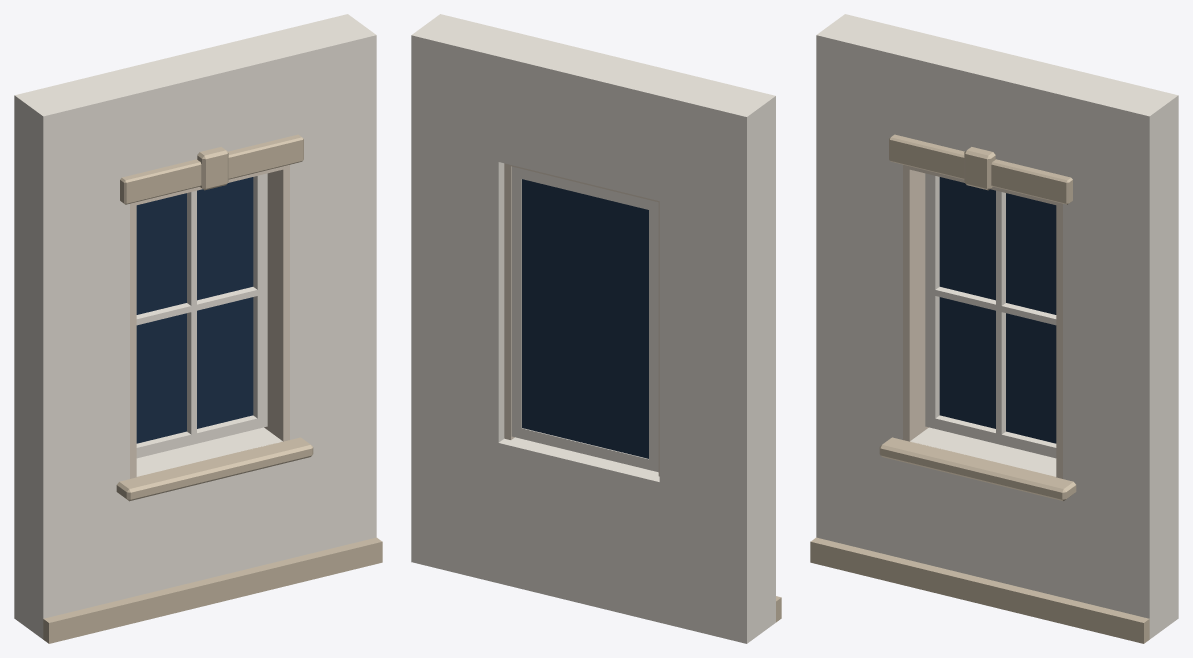
File: window_sash.glb
3 renders of one model, left to right at view 1: azimuth 30°, elevation 25°; view 2: azimuth 150°, elevation 25°; view 3: azimuth 330°, elevation 25°, orthographic.
Visible parts, largest first — view 1: window_sash; view 2: window_sash; view 3: window_sash.
Boxes of the visible parts, x1,y1,x2,y2 form: window_sash: (14, 14, 382, 643); window_sash: (411, 14, 781, 643); window_sash: (810, 14, 1178, 643).
Bounding box in the file's own units: 2 × 3 × 0.42.
3 materials, 3 textured.
